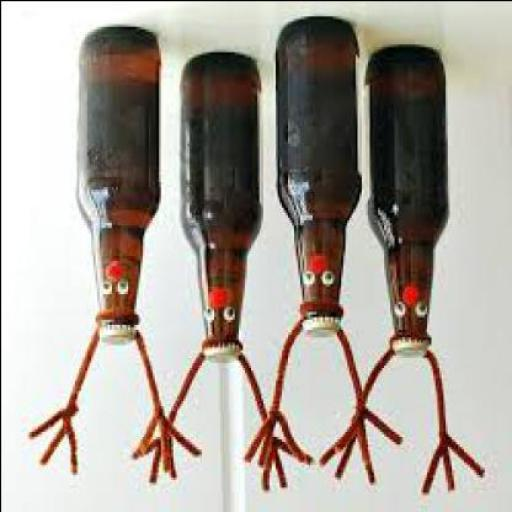glass: (275, 18, 363, 316), (365, 44, 449, 342), (180, 54, 262, 346), (82, 28, 162, 326)
metal: (100, 324, 138, 348), (202, 346, 244, 362), (396, 342, 430, 361), (308, 322, 340, 338)
